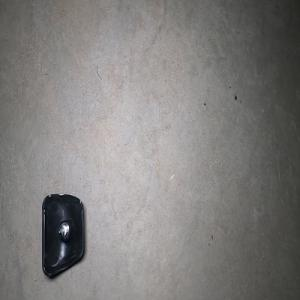LuggagePart: (41, 192, 85, 279)
